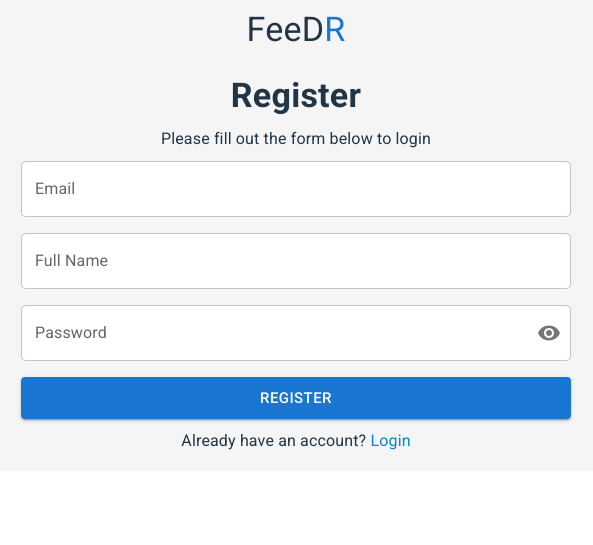
shows error message for password with length less than 6
The image size is (593, 545).
Type "12345" into the password field labelled "Password". click: (271, 333)
box: [21,305,521,361]
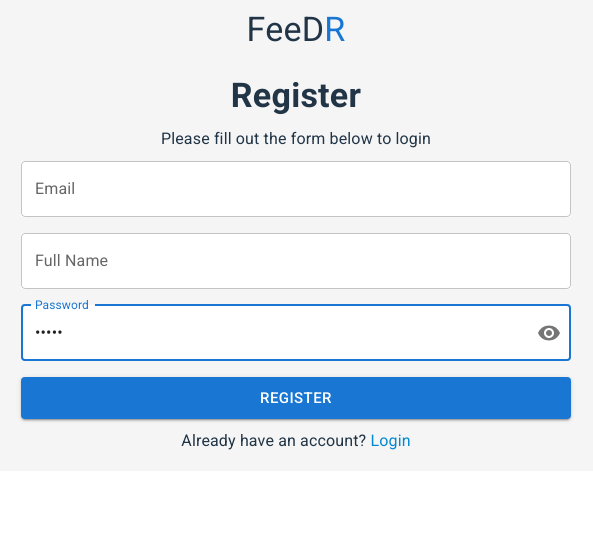
Click the button "Register". click: (296, 398)
box: [21,377,571,419]
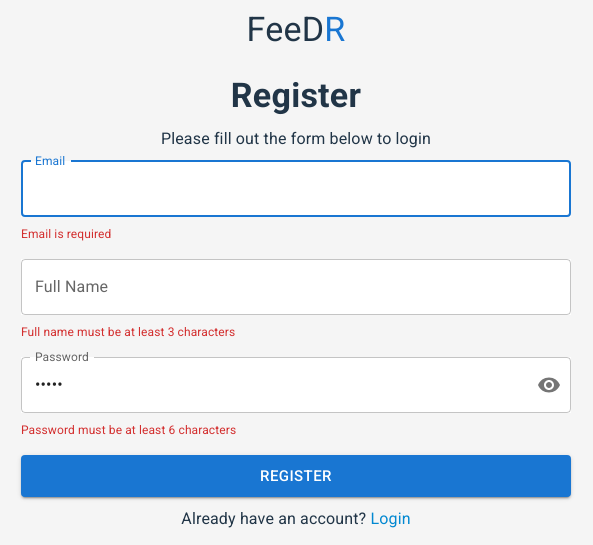
expect the text "Password must be at least 6 characters" is shown: met, box [21,423,236,437]
